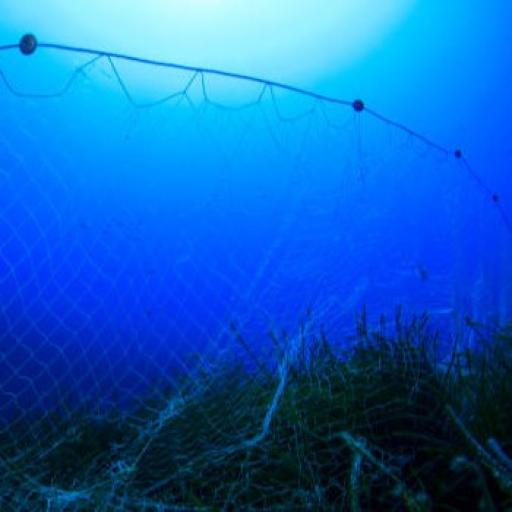net: (0, 35, 512, 512)
